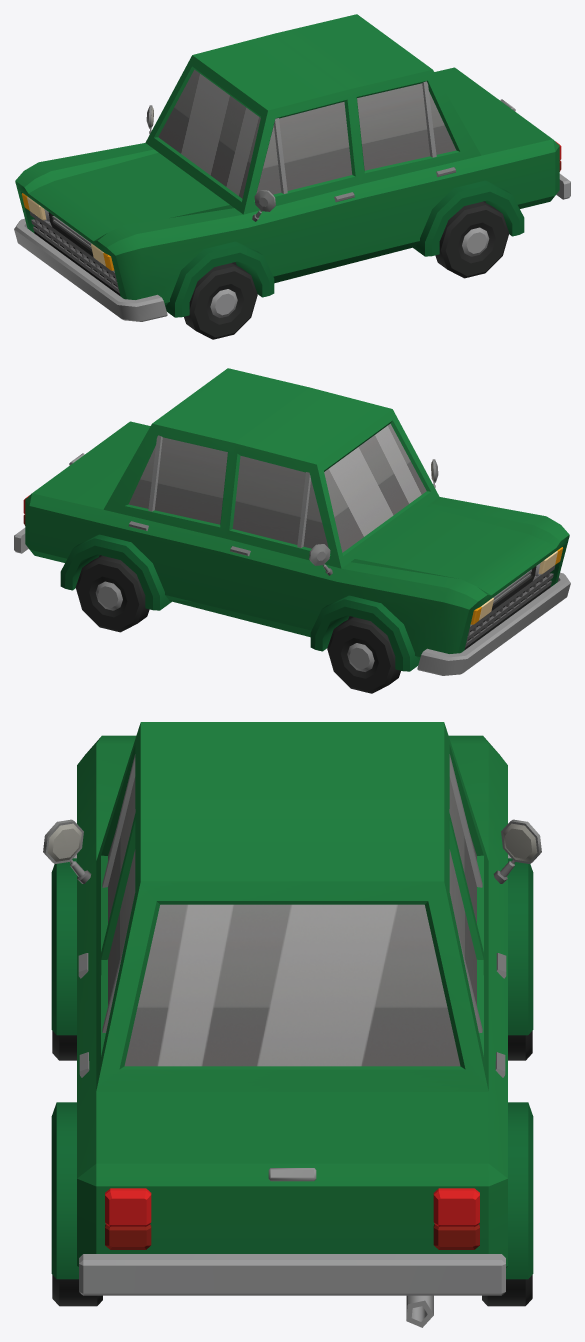
Rendered from Car_5_C.gltf.
3 views of the same model, one above another, from view 1: azimuth 30°, elevation 25°; view 2: azimuth 150°, elevation 25°; view 3: azimuth 270°, elevation 25° (orthographic). The views are drawn at different scales.
Visible parts, largest first — view 1: Car_5_C, RR, FL; view 2: Car_5_C, RL, FR; view 3: Car_5_C, RR, RL.
Part boxes in pixels (bbox=[...]): Car_5_C: bbox=[14, 14, 570, 321]; RR: bbox=[435, 201, 509, 278]; FL: bbox=[184, 263, 257, 339]; Car_5_C: bbox=[14, 368, 570, 675]; RL: bbox=[75, 555, 149, 632]; FR: bbox=[327, 617, 400, 693]; Car_5_C: bbox=[43, 722, 541, 1327]; RR: bbox=[52, 1275, 102, 1306]; RL: bbox=[482, 1275, 532, 1306].
Size of the model in its own units: 3.55 by 1.45 by 1.67.
4 materials, 4 textured.
